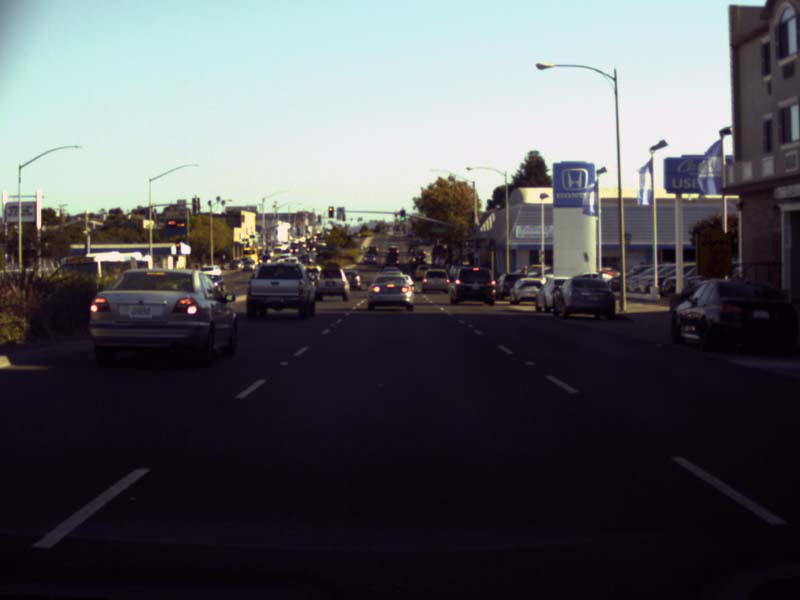Green: (489, 239, 495, 250), (400, 209, 405, 220)
Red: (327, 205, 332, 217)
